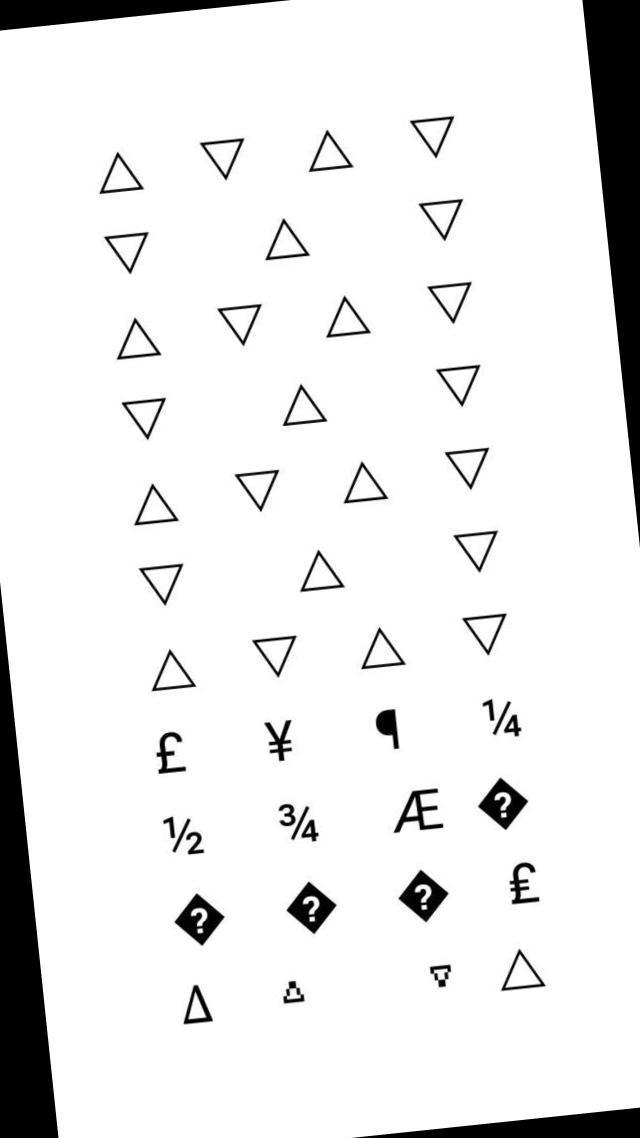ASCII: (168, 884, 230, 955), (280, 874, 342, 944), (394, 860, 454, 930), (472, 772, 532, 838), (404, 104, 464, 168), (274, 376, 332, 440), (230, 460, 288, 524), (212, 292, 270, 356), (392, 780, 450, 844), (195, 126, 252, 191), (336, 452, 392, 517), (319, 290, 375, 354), (292, 544, 349, 606), (257, 212, 314, 274), (495, 945, 552, 1007), (300, 122, 356, 185), (248, 626, 304, 687), (144, 642, 200, 703), (116, 388, 173, 447), (100, 225, 156, 284), (442, 440, 498, 499), (91, 143, 147, 202), (127, 474, 182, 534), (432, 353, 487, 413), (110, 312, 165, 372), (135, 554, 190, 614), (424, 272, 478, 332), (159, 806, 211, 868), (477, 686, 528, 748), (458, 608, 514, 664), (450, 521, 504, 579), (417, 191, 470, 250), (356, 620, 408, 680), (273, 793, 324, 854), (501, 850, 546, 916), (150, 726, 193, 788), (258, 712, 300, 771), (176, 980, 218, 1039), (369, 702, 404, 757), (276, 971, 312, 1020), (426, 954, 460, 1000)
